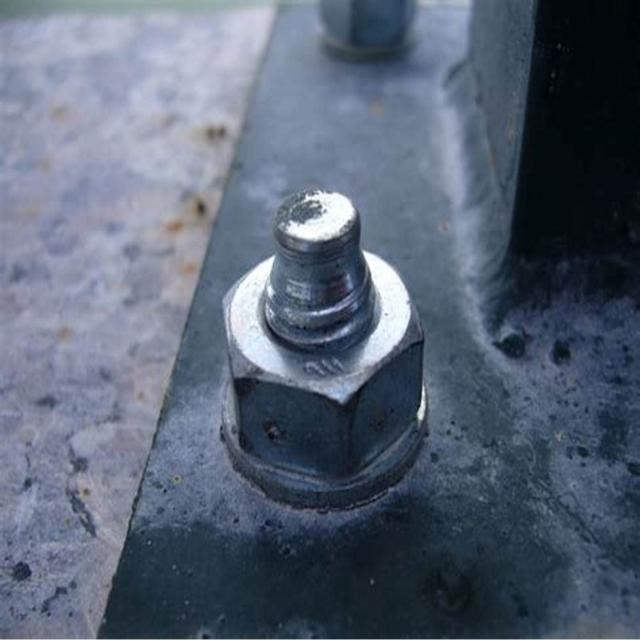bolt nut: (218, 238, 426, 478)
